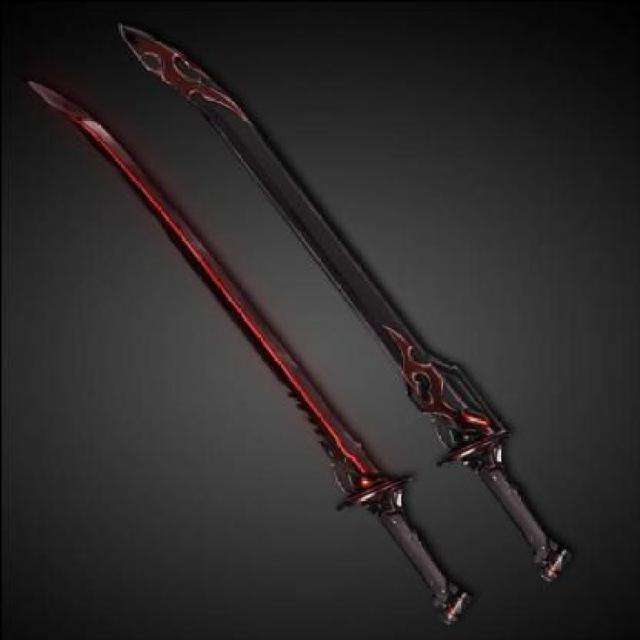weapon: (113, 20, 572, 582)
